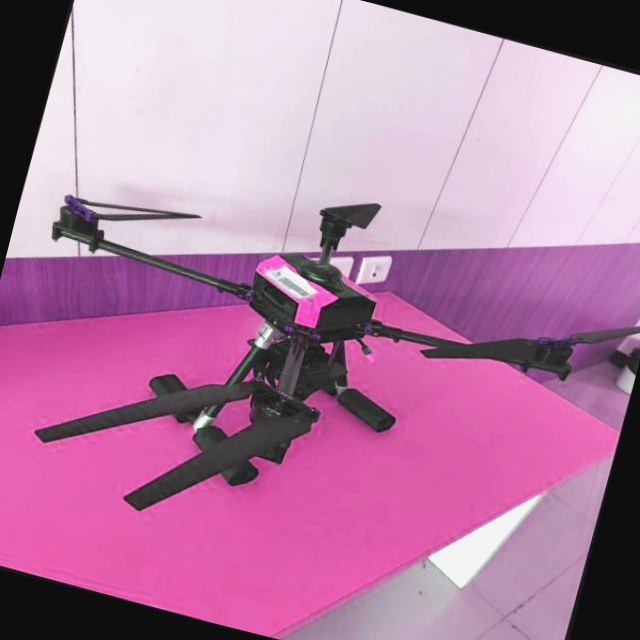quadcopter: (0, 111, 640, 630)
